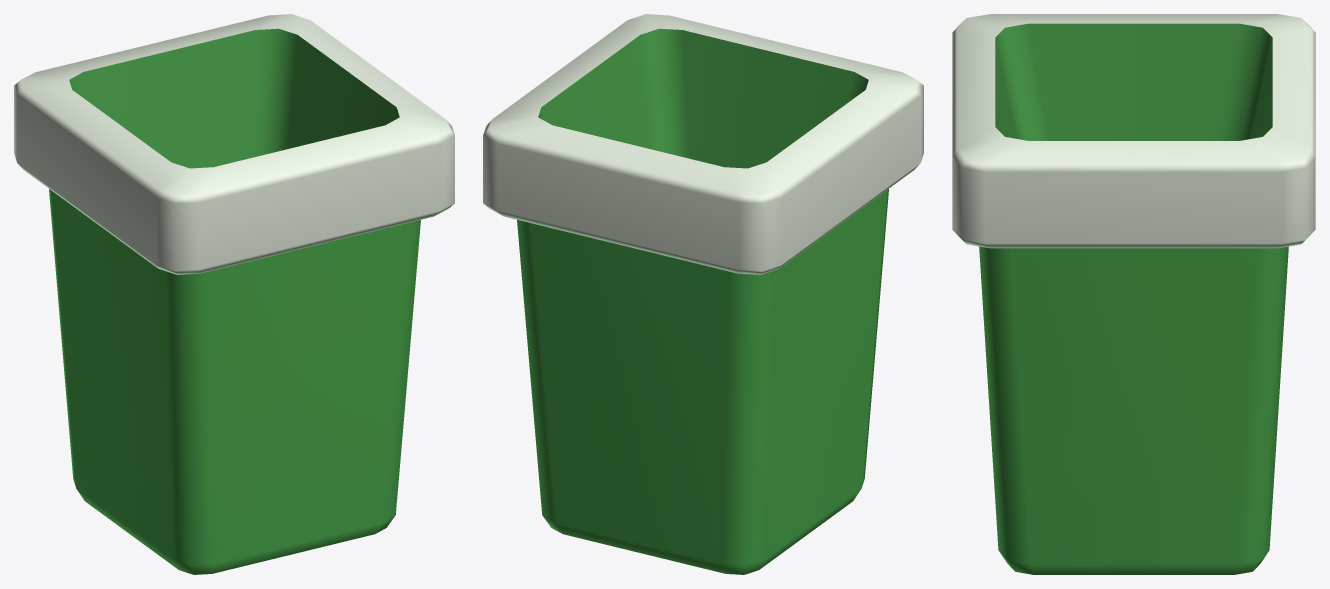
The model's file is Bin.fbx.
The picture shows the model from 3 angles, left to right: view 1: azimuth 30°, elevation 25°; view 2: azimuth 150°, elevation 25°; view 3: azimuth 270°, elevation 25°; orthographic projection. The views are drawn at different scales.
Visible parts, largest first — view 1: Bin; view 2: Bin; view 3: Bin.
Part boxes in pixels (left/top/right/bottom): Bin: left=14, top=14, right=454, bottom=574; Bin: left=483, top=14, right=923, bottom=574; Bin: left=952, top=14, right=1315, bottom=574.
Bounding box in the file's own units: 67 × 89.35 × 67.
